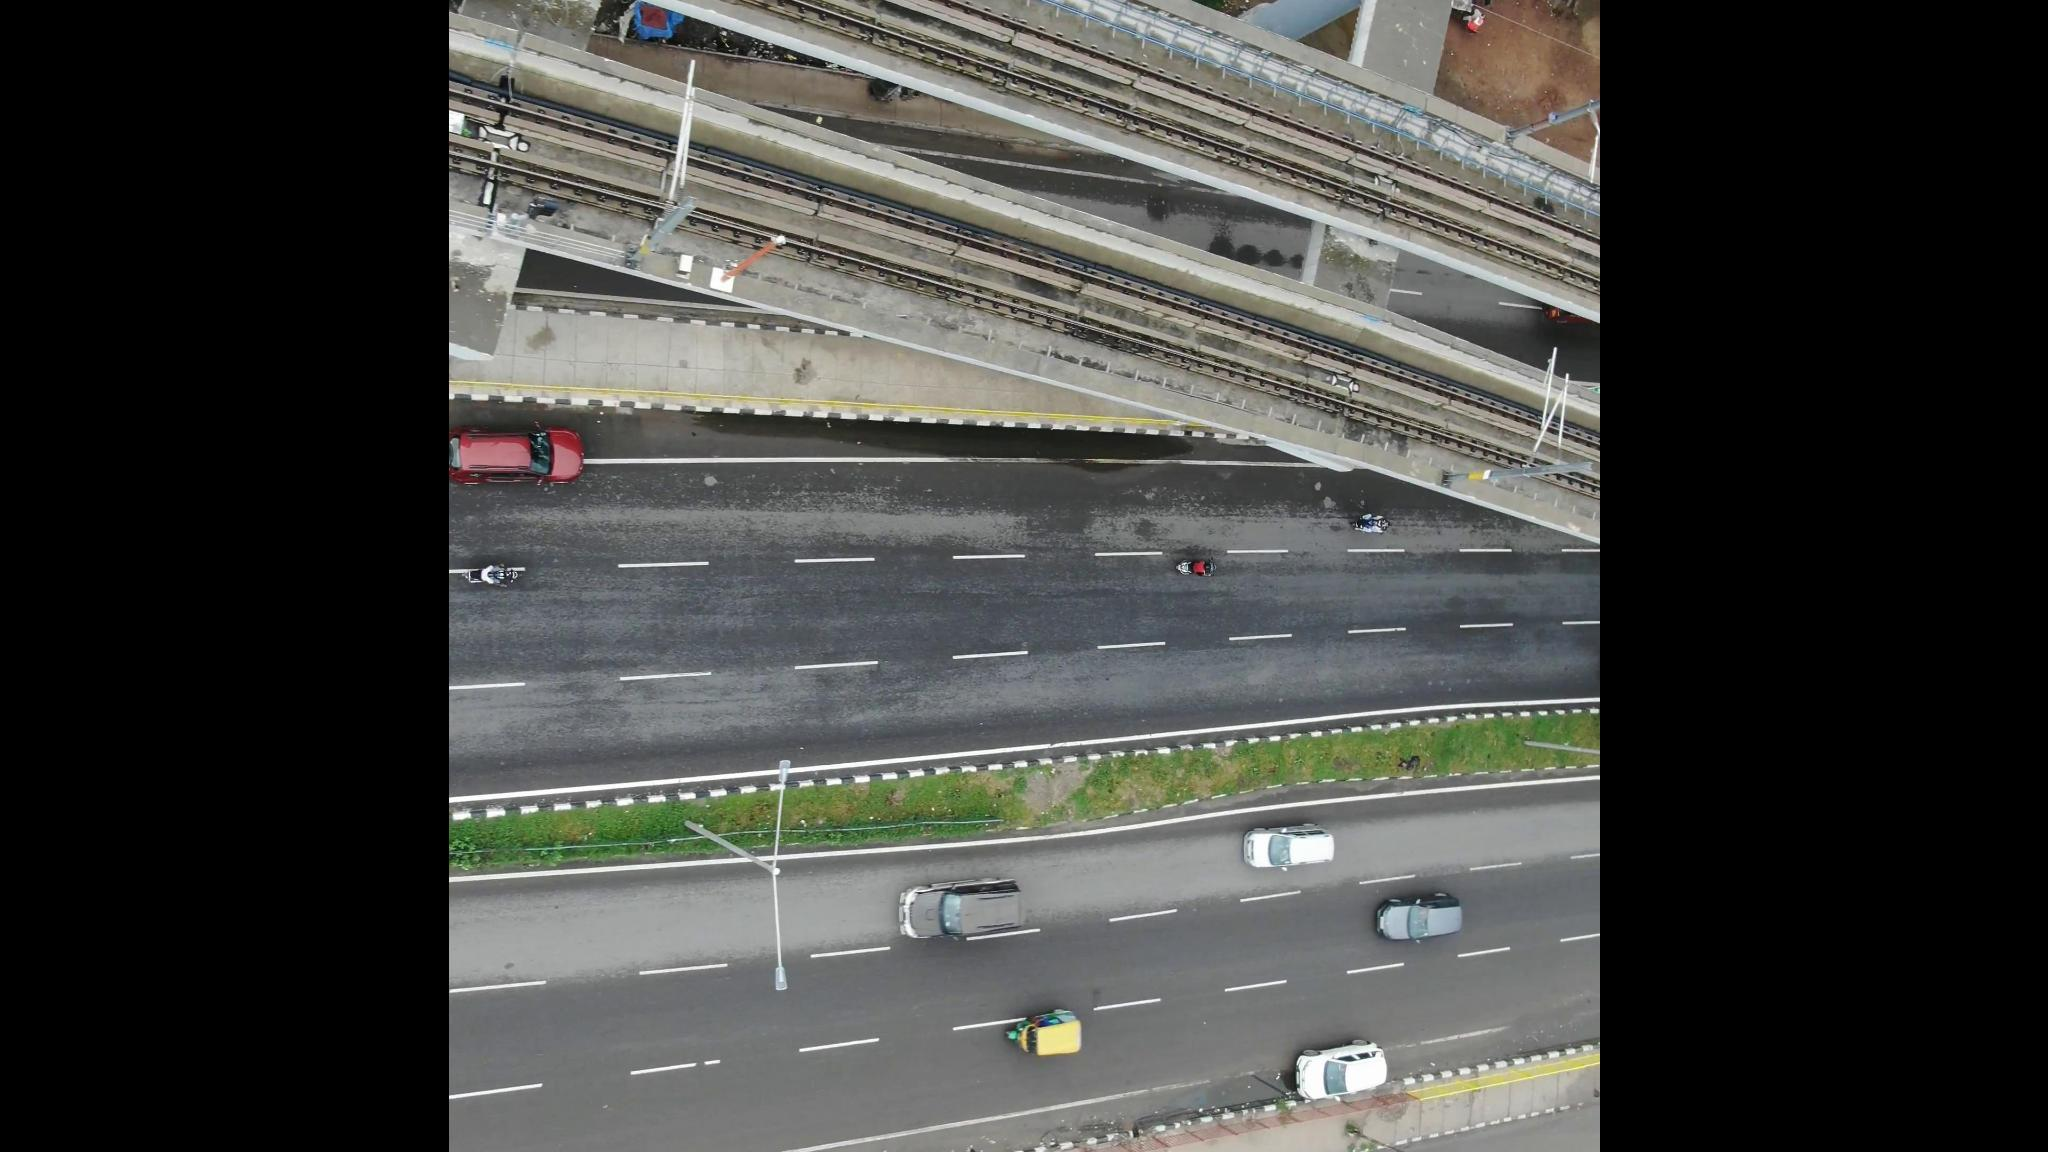Waterlogging: (873, 405, 1182, 475), (1115, 1061, 1280, 1139)
